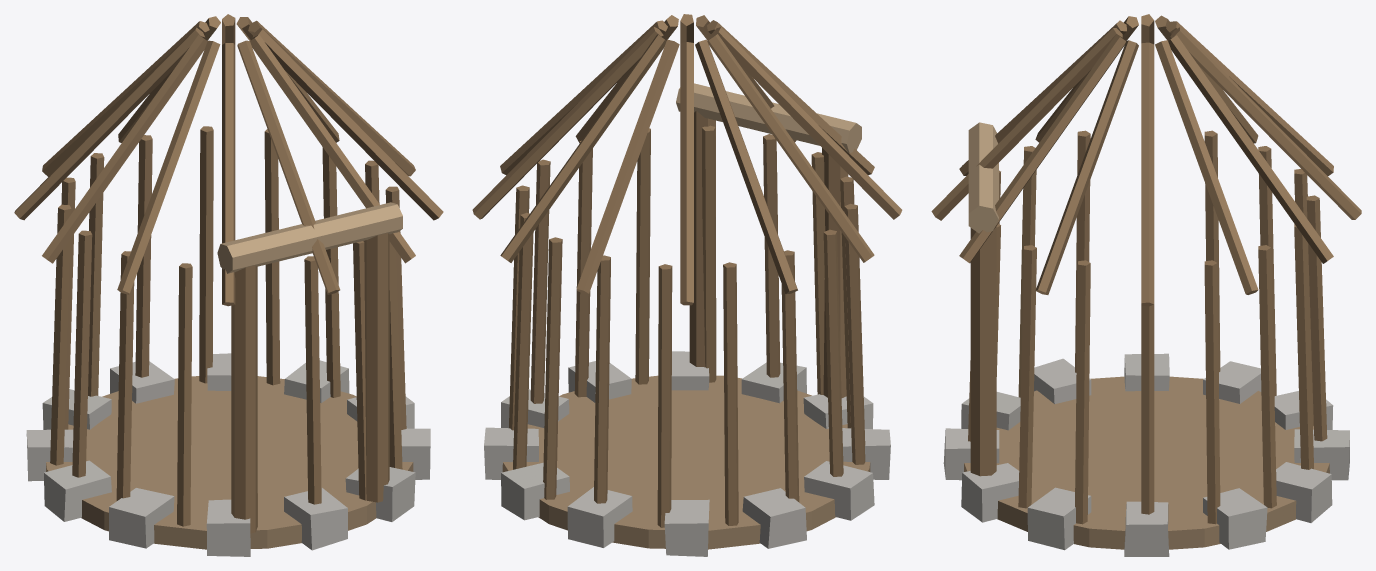
The model's file is building_hut_frame.glb.
3 views of the same model, side by side, from view 1: azimuth 30°, elevation 25°; view 2: azimuth 150°, elevation 25°; view 3: azimuth 270°, elevation 25° (orthographic).
Visible parts, largest first — view 1: building_hut_frame; view 2: building_hut_frame; view 3: building_hut_frame.
Part boxes in pixels (x1=…): building_hut_frame: x1=14, y1=14, x2=443, y2=556; building_hut_frame: x1=472, y1=14, x2=902, y2=556; building_hut_frame: x1=931, y1=14, x2=1361, y2=556.
Size of the model in its own units: 2.7 by 3.08 by 2.7.
